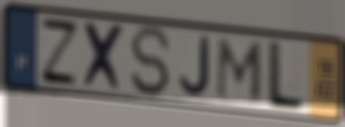J: (178, 34, 212, 99)
L: (263, 38, 307, 114)
M: (214, 35, 266, 104)
S: (128, 24, 173, 99)
X: (81, 19, 128, 95)
Z: (37, 15, 82, 89)
